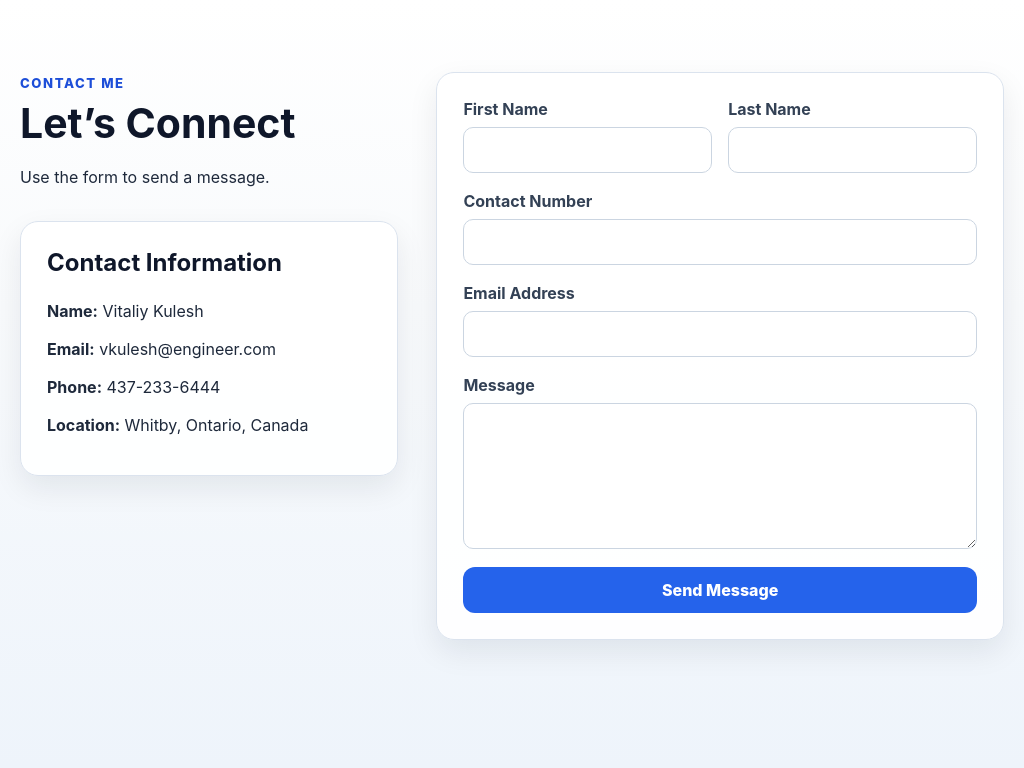
Test: Contact page › retains entered data and shows a server error
Type "Test" into the field labelled "First Name" at coordinates (588, 150), box left=463, top=127, right=712, bottom=173
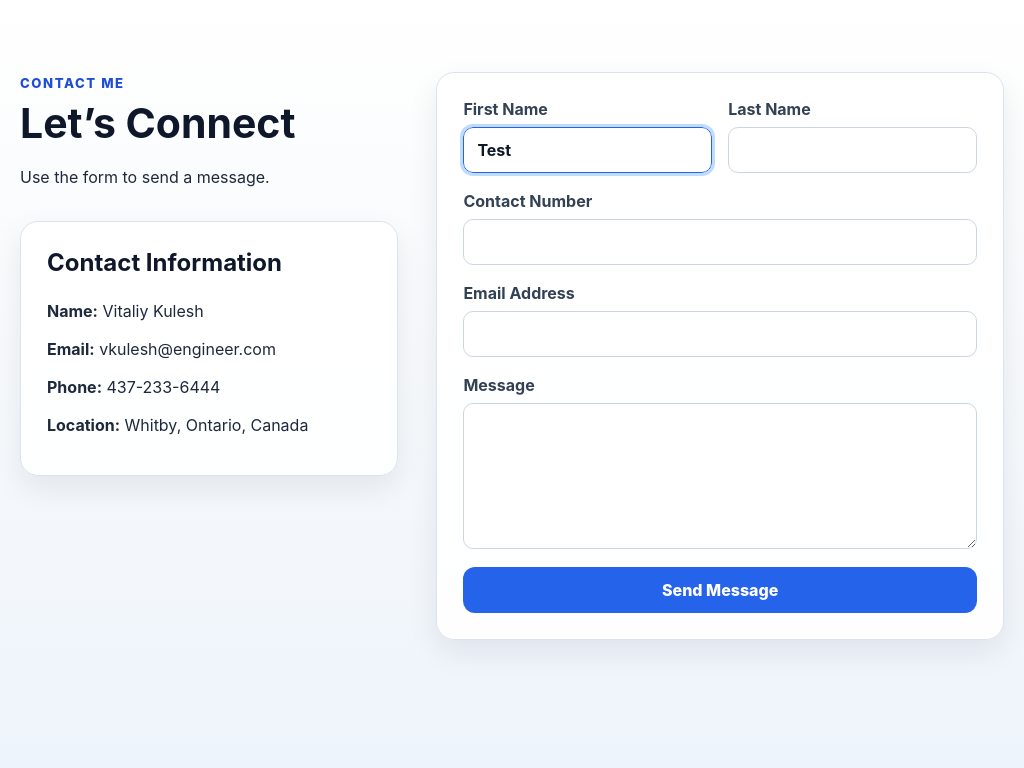
Type "Visitor" into the field labelled "Last Name" at coordinates (853, 150), box left=728, top=127, right=977, bottom=173
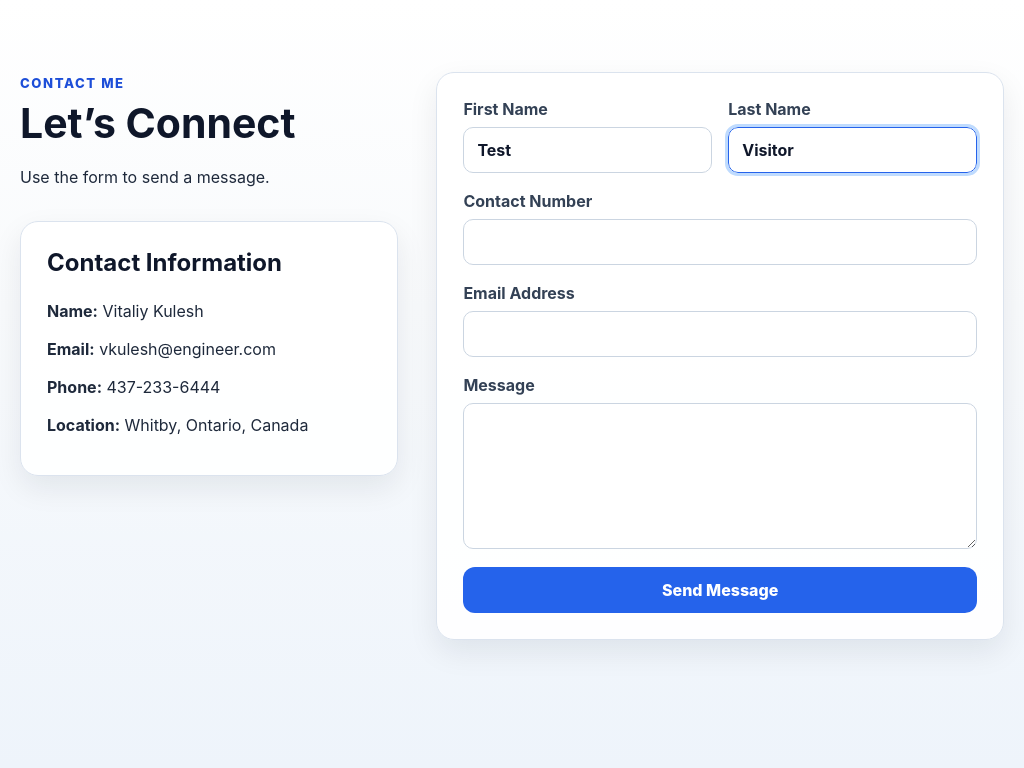
Type "555-0100" into the field labelled "Contact Number" at coordinates (720, 242), box left=463, top=219, right=977, bottom=265
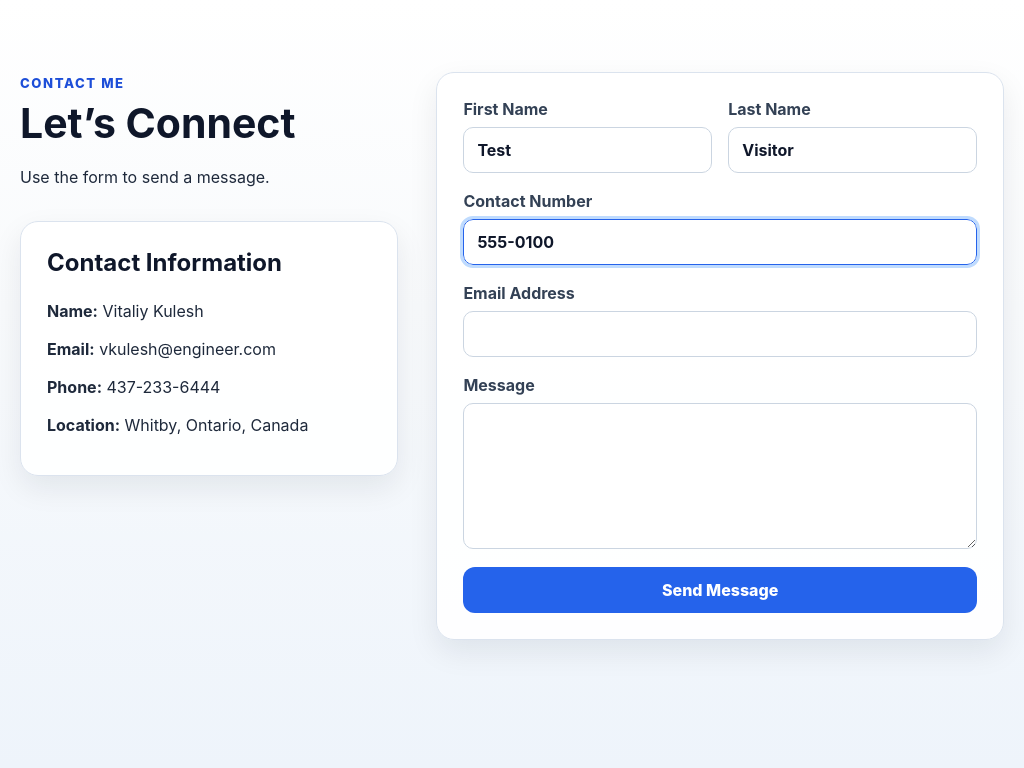
Type "test@example.com" into the field labelled "Email Address" at coordinates (720, 334), box left=463, top=311, right=977, bottom=357
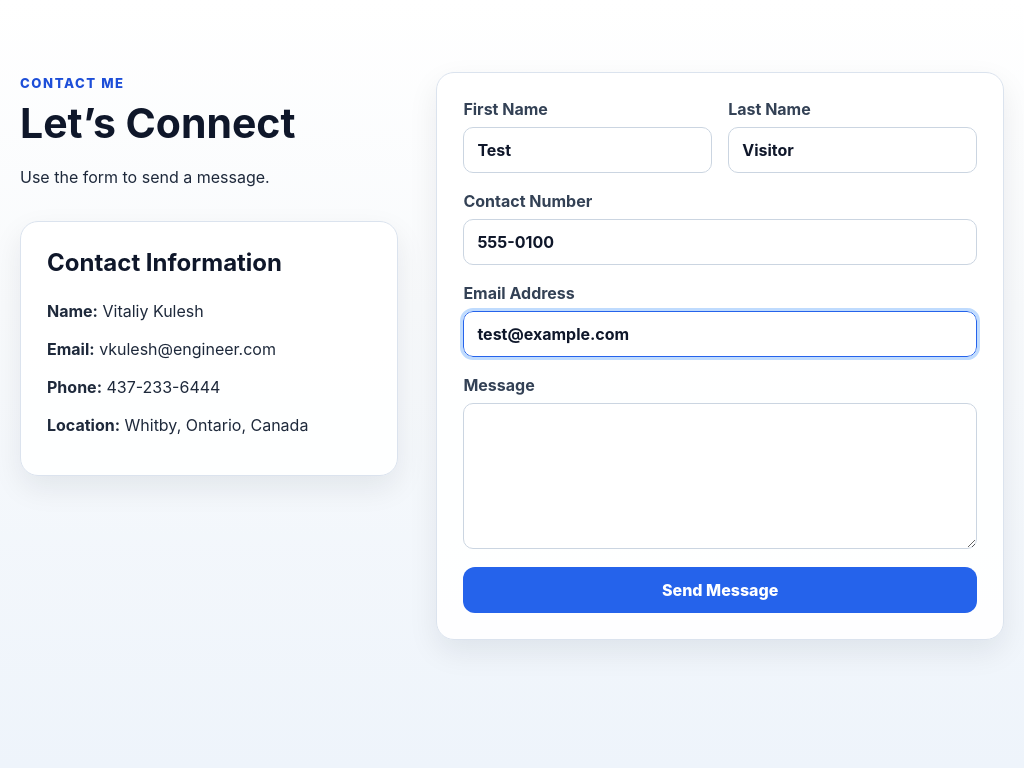
Type "A complete message" into the text box labelled "Message" at coordinates (720, 476), box left=463, top=403, right=977, bottom=549
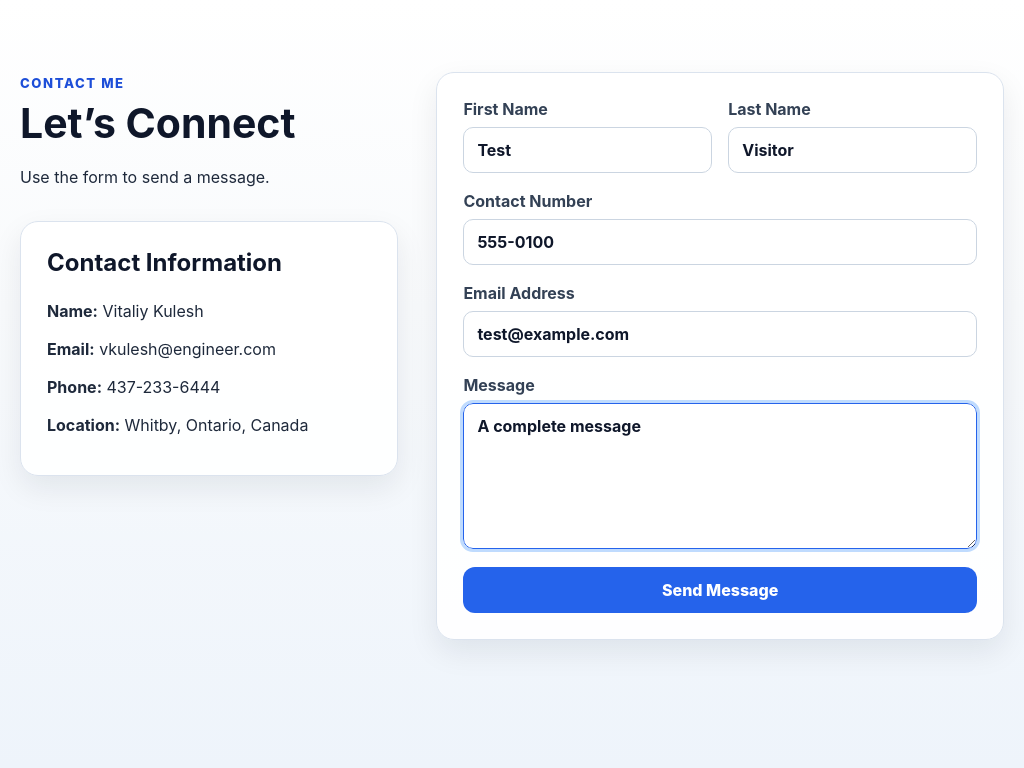
Click the button "Send Message" at coordinates (720, 590), box left=463, top=567, right=977, bottom=613
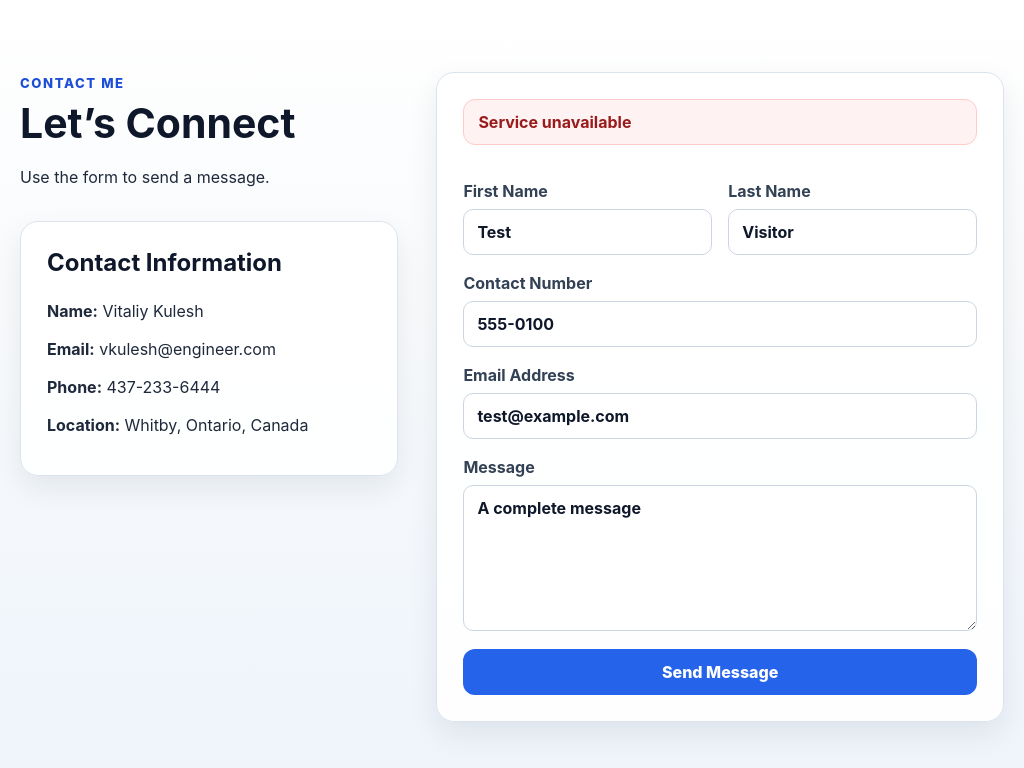
Expected: the button "Send Message" is enabled, left=463, top=649, right=977, bottom=695
Expected: the message reads "Service unavailable", left=478, top=112, right=631, bottom=132
